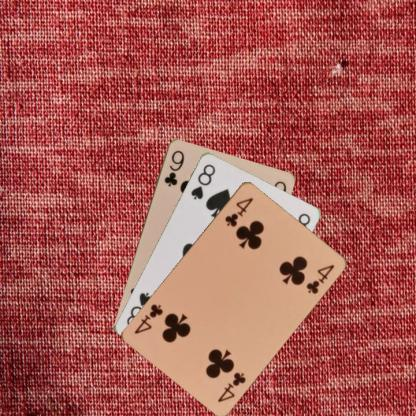4c: (214, 369, 248, 403), (222, 194, 255, 228)
8s: (188, 161, 216, 201)
9c: (161, 147, 186, 188)
